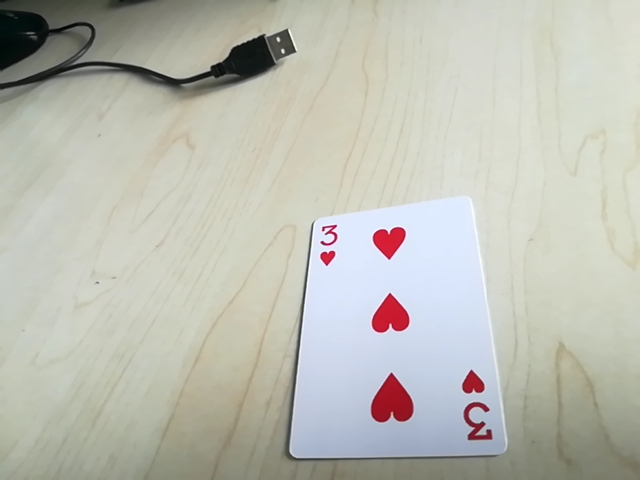hx 3: (455, 391, 500, 447), (312, 218, 349, 268)
